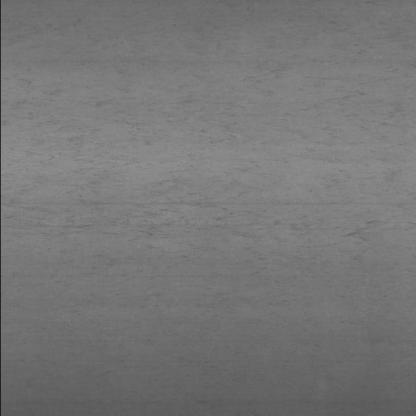silk_spot: (7, 7, 398, 174), (24, 179, 406, 261)
